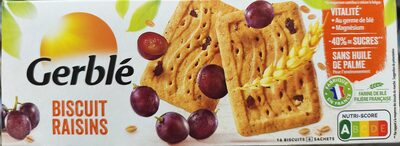Biscuit raisins: (20, 7, 380, 139)
